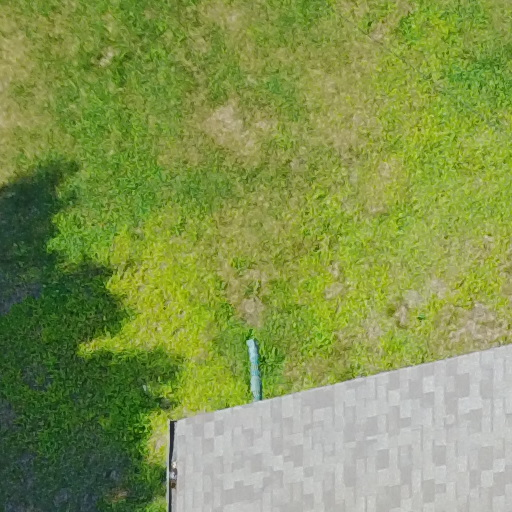gutter: (223, 334, 279, 416)
